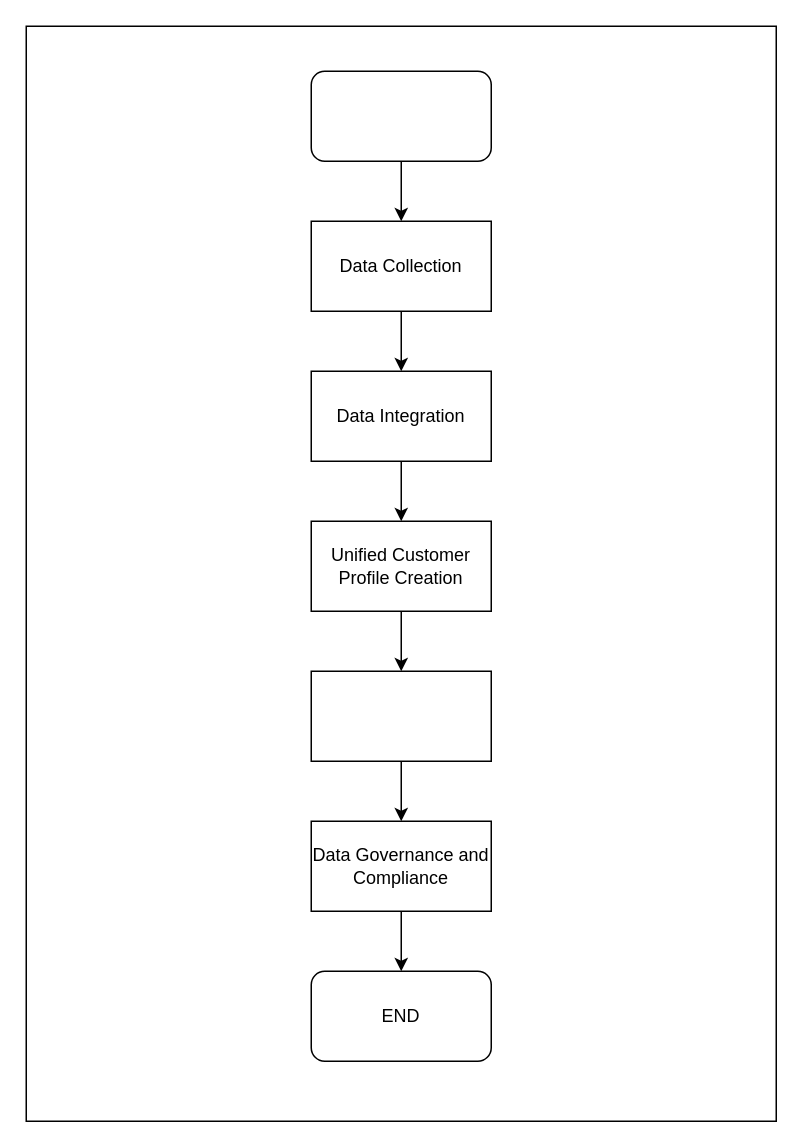
The diagram is 803 pixels wide and 1148 high, and some of its shapes have lost their labels. The box of each missing label's shape, as (x1, y1, x2, y2) in pixels:
Segmentation and Targeting: (310, 670, 491, 761)
START: (310, 70, 491, 161)
